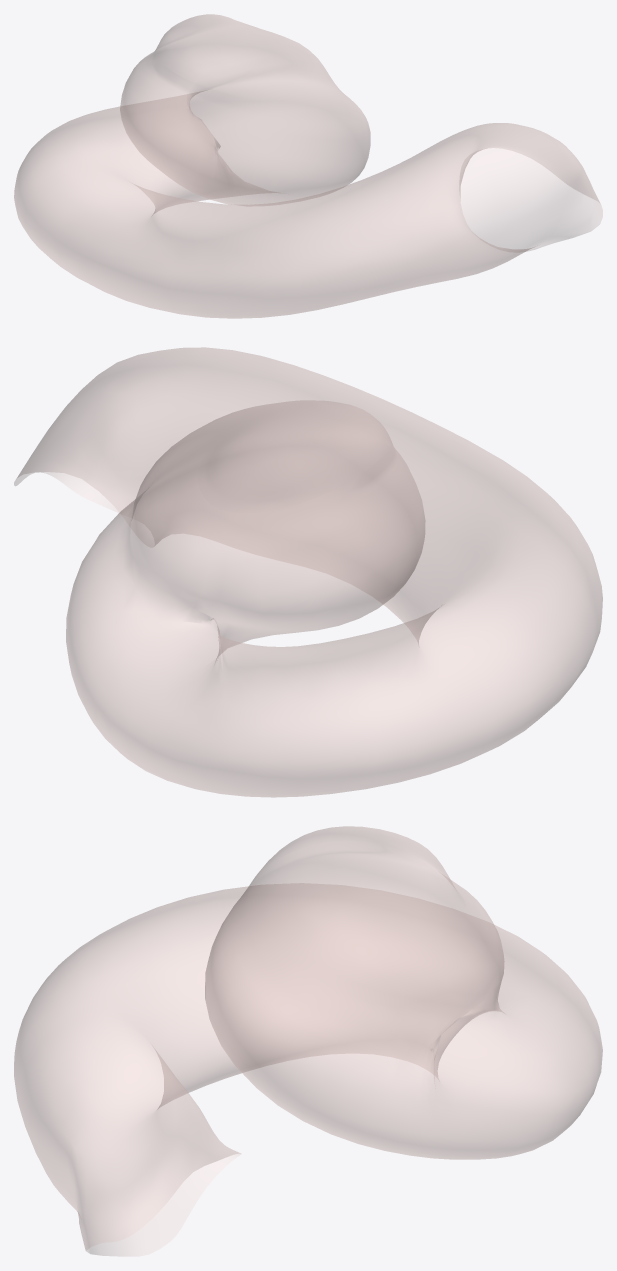
Rendered from cochlee.glb.
3 views of the same model, one above another, from view 1: azimuth 30°, elevation 25°; view 2: azimuth 150°, elevation 25°; view 3: azimuth 270°, elevation 25° (orthographic). The views are drawn at different scales.
Parts seen in each view (by area): view 1: Cochlée; view 2: Cochlée; view 3: Cochlée.
Boxes of the visible parts, x1=… form: Cochlée: x1=14, y1=14, x2=602, y2=318; Cochlée: x1=14, y1=347, x2=602, y2=797; Cochlée: x1=14, y1=826, x2=602, y2=1256.
Bounding box in the file's own units: 10.23 × 4.49 × 8.55.
